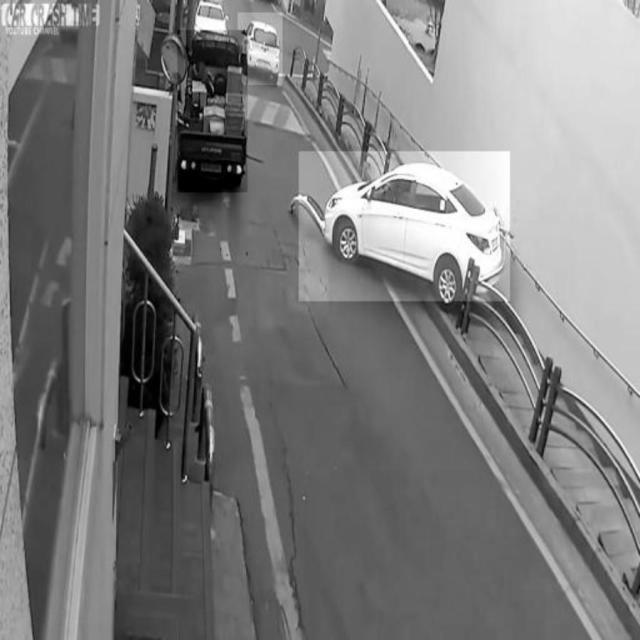accident: (299, 152, 510, 302)
vehicle: (179, 29, 249, 193), (238, 13, 283, 85)
